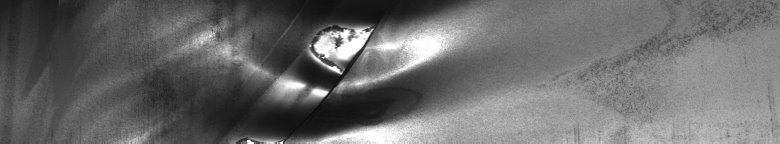ke: (206, 20, 436, 136)
